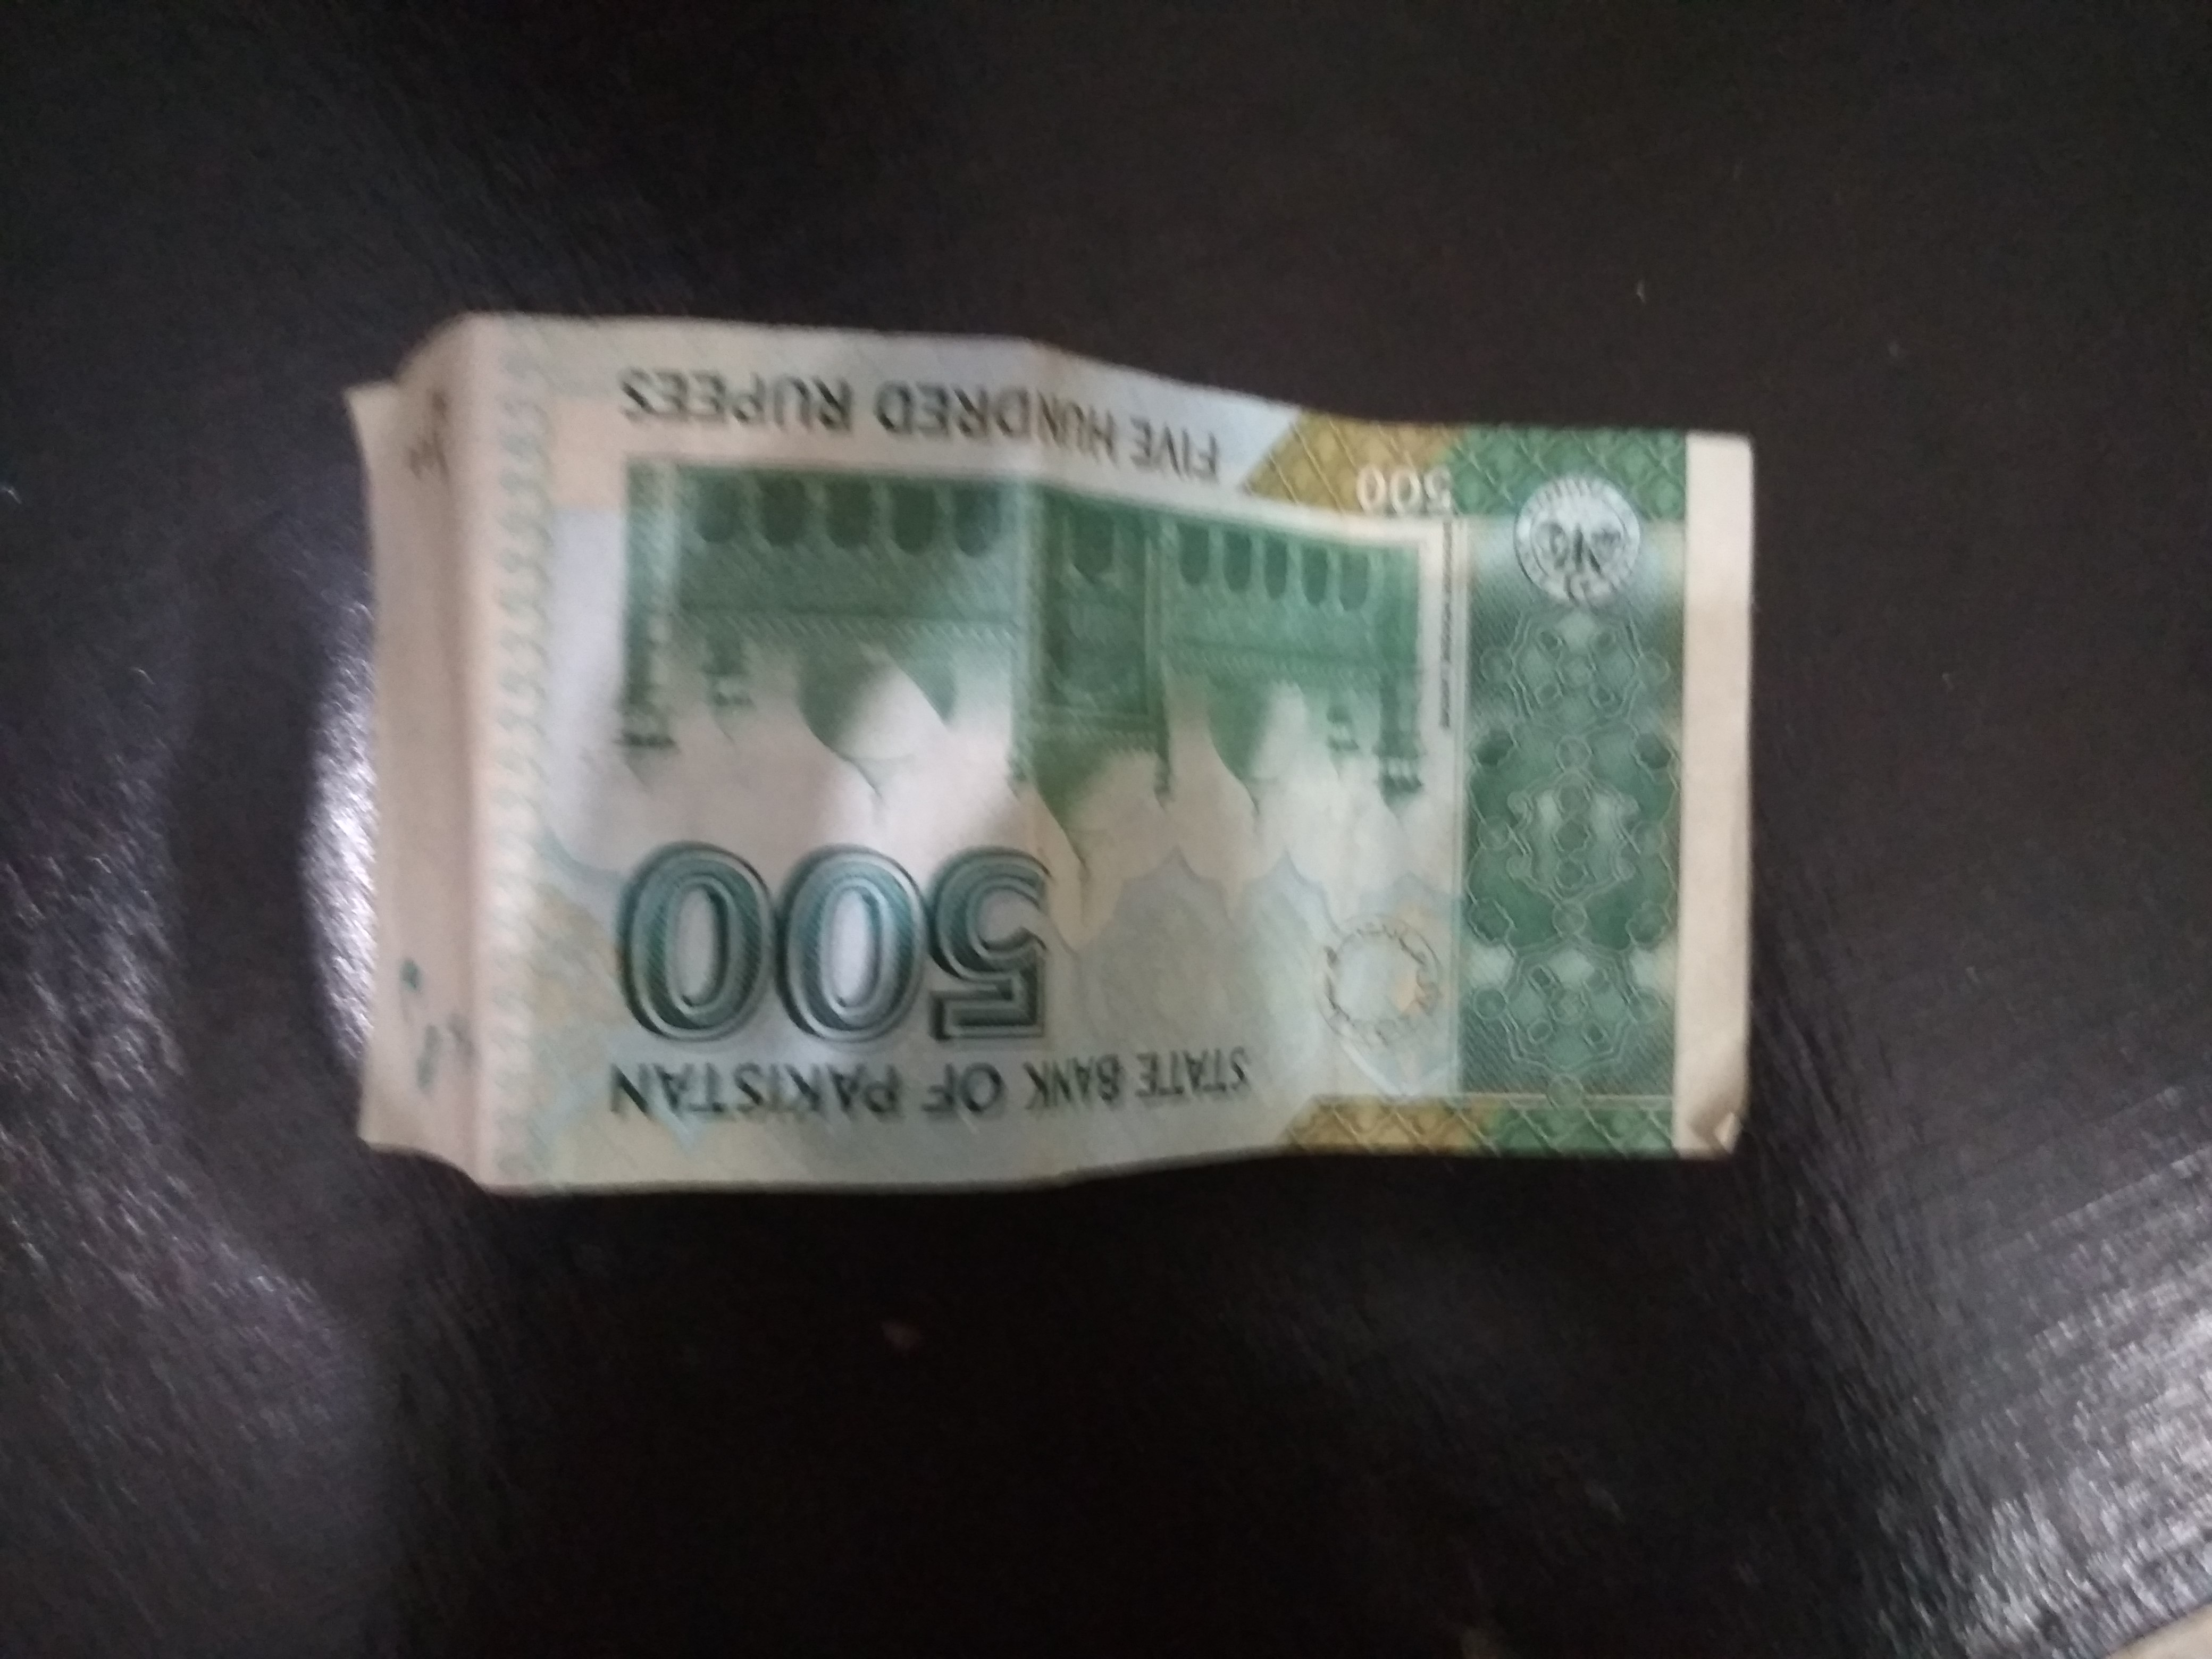500 rupee: (291, 303, 1872, 1236)
